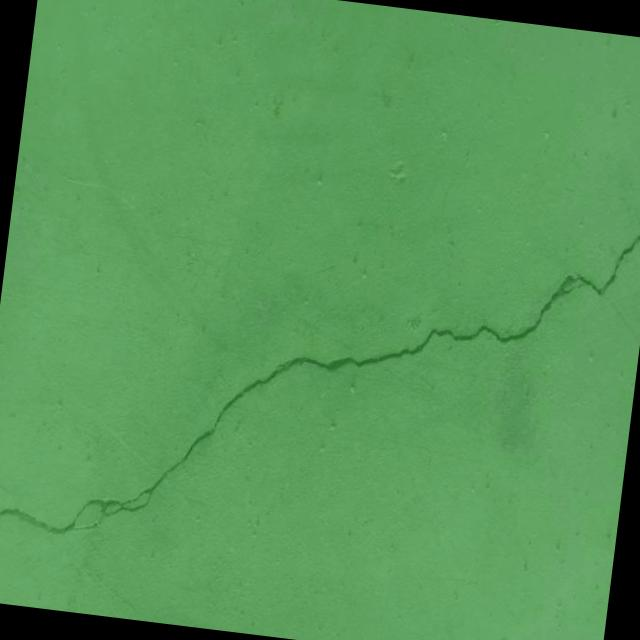crack: (0, 143, 640, 602), (0, 479, 15, 498)
